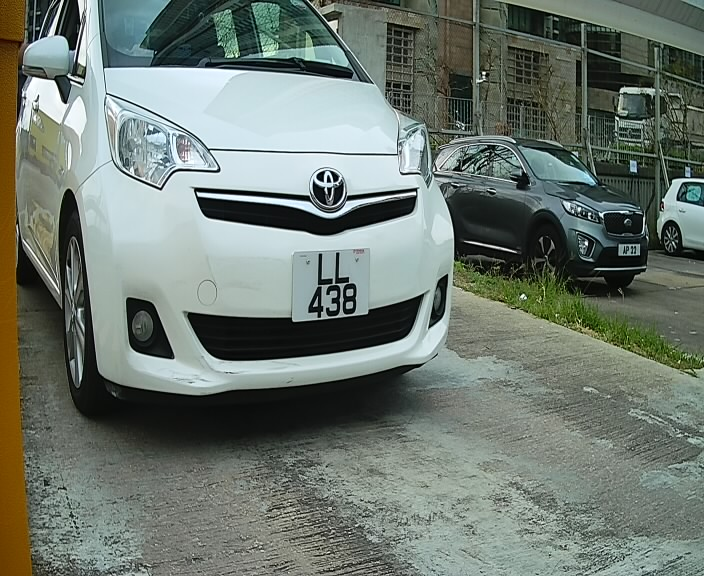Car: (1, 2, 479, 438)
License Plate: (276, 234, 386, 337)
